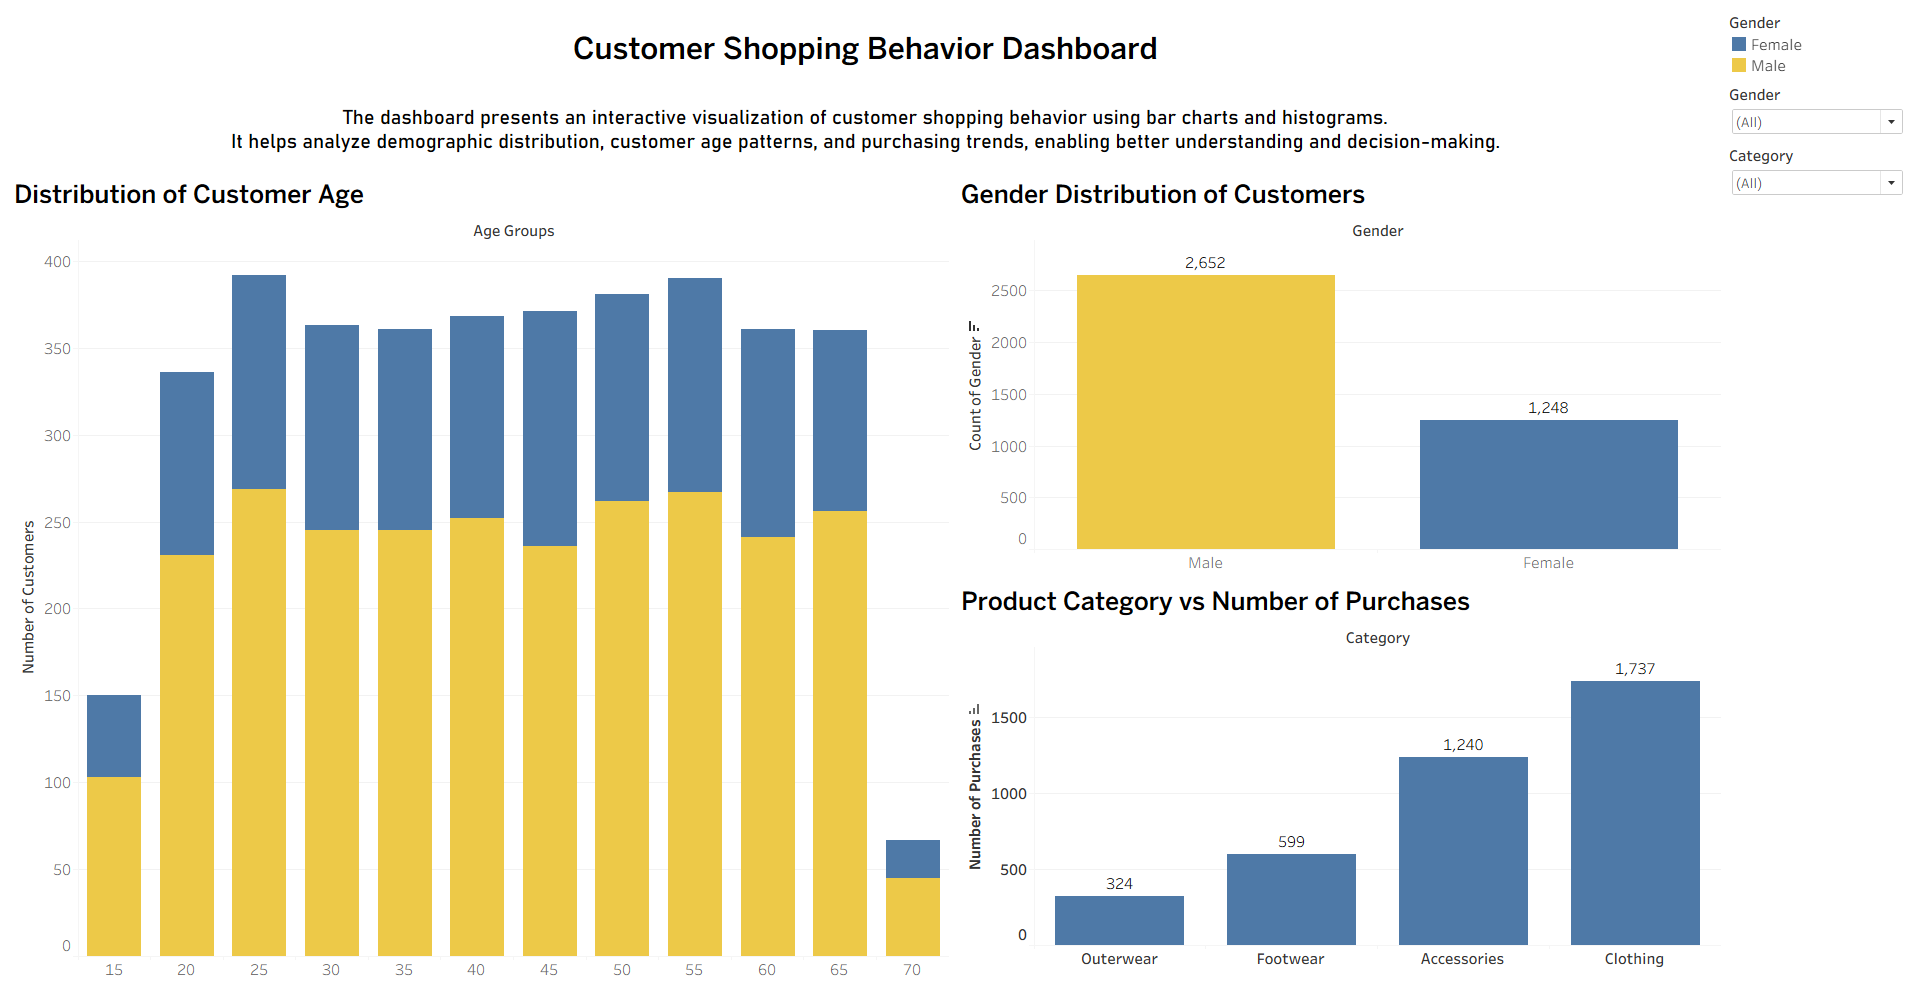

Layout of this report page (visuals, bound fields, positions):
{"tool":"tableau","page":{"name":"Dashboard 1","canvas":[1000,1000],"units":"permille","ordinal":0},"visuals":[{"type":"text","box":[4.8,10,894.3,81.8]},{"type":"legend","title":"Histogram","param":"[federated.0r8tyse0fd0p1x1bm4irt11s4rel].[none:Gender:nk]","box":[899.1,10,96.1,89.9]},{"type":"text","box":[4.8,91.8,894.3,81.8]},{"type":"filter","title":"gender","param":"[federated.0r8tyse0fd0p1x1bm4irt11s4rel].[none:Gender:nk]","box":[899.1,99.9,96.1,76.2]},{"type":"worksheet","title":"Histogram","mark":"Automatic","rows":["Age"],"cols":["Age (bin)"],"box":[4.8,173.5,492.6,816.5]},{"type":"worksheet","title":"gender","mark":"Bar","rows":["Gender"],"cols":["Gender"],"box":[497.4,173.5,401.7,408.2]},{"type":"filter","title":"Bar_chart","param":"[federated.0r8tyse0fd0p1x1bm4irt11s4rel].[none:Category:nk]","box":[899.1,176,96.1,76.2]},{"type":"worksheet","title":"Bar_chart","mark":"Automatic","rows":["Purchase Amount (USD)"],"cols":["Category"],"box":[497.4,581.8,401.7,408.2]}]}

Visuals, with their boxes on the dashboard's canvas, which has no fixed pixel size, in thousandths of its width and height (x1, y1, x2, y2). These are canvas units, not pixel positions in the 1910x988 screenshot, which may show the page scaled, cropped or inside an application window:
text: Rect(5, 10, 899, 92)
"Histogram" legend: Rect(899, 10, 995, 100)
text: Rect(5, 92, 899, 174)
"gender" filter: Rect(899, 100, 995, 176)
"Histogram" worksheet: Rect(5, 174, 497, 990)
"gender" worksheet (Bar marks): Rect(497, 174, 899, 582)
"Bar_chart" filter: Rect(899, 176, 995, 252)
"Bar_chart" worksheet: Rect(497, 582, 899, 990)
